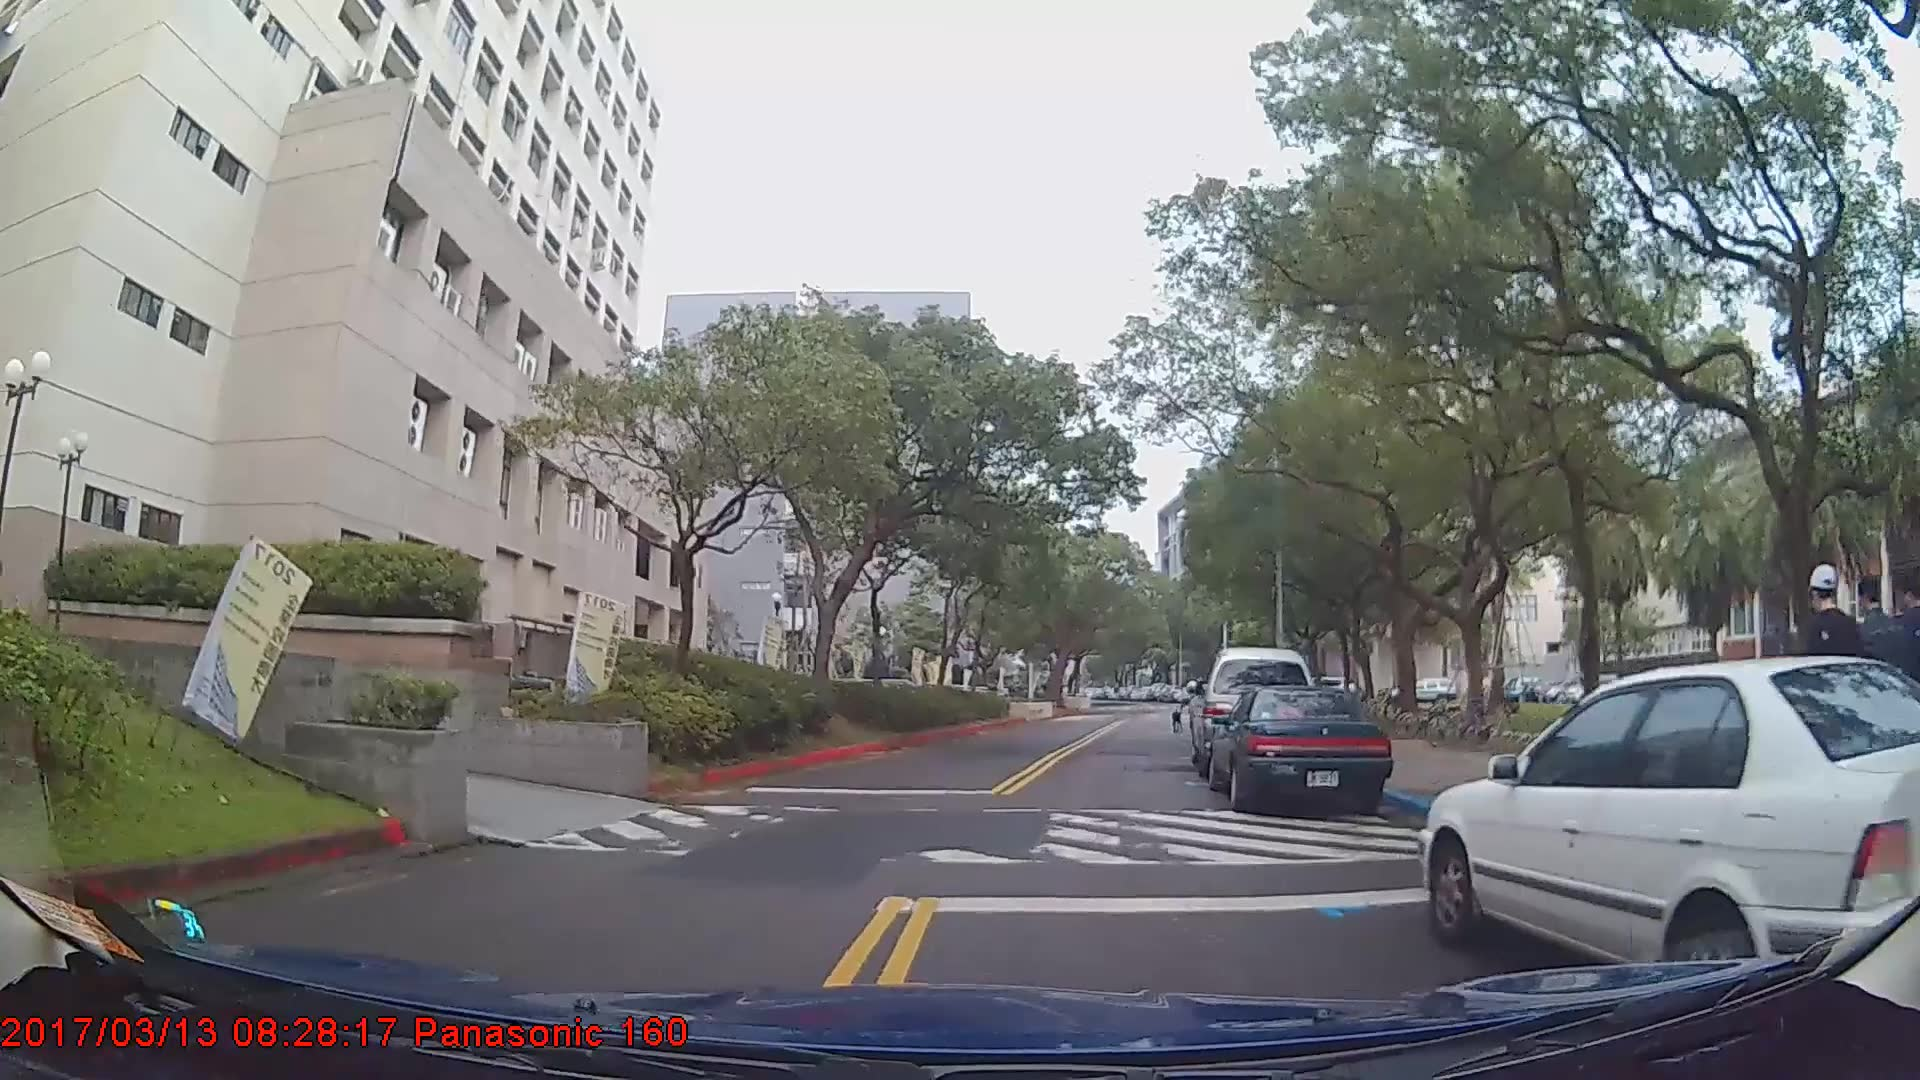pedestrian: (1798, 568, 1865, 835)
vehicle: (1418, 654, 1920, 1014), (1205, 687, 1391, 817)
